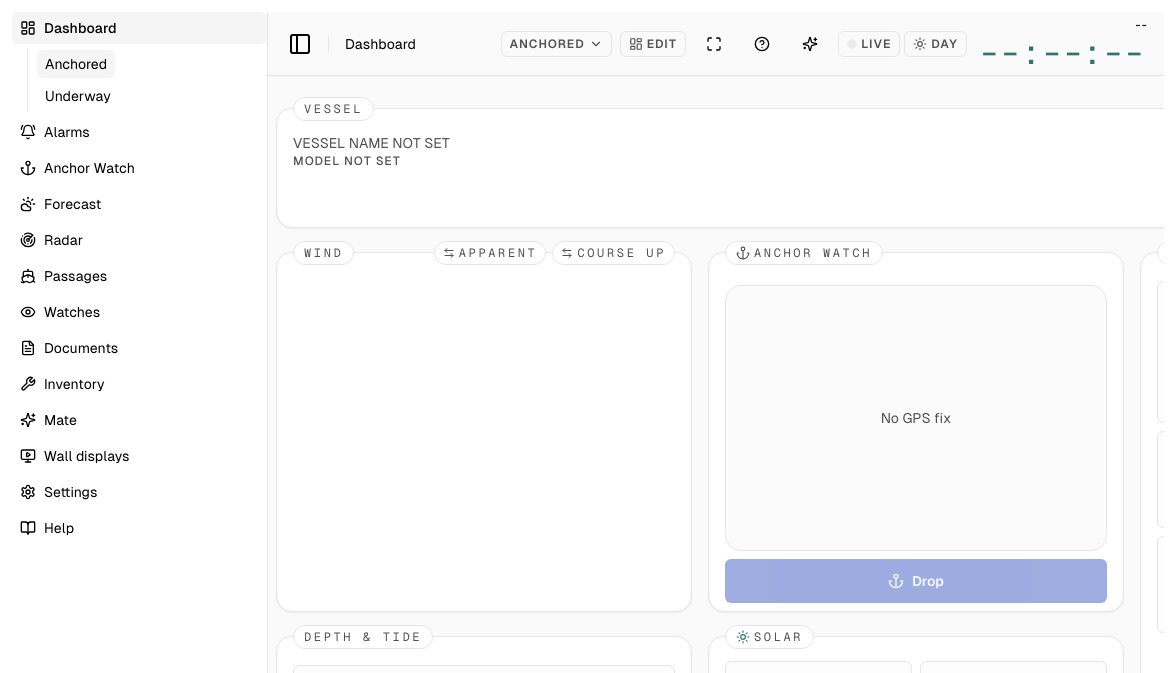
Test: App sidebar navigation › shows the dashboard by default, navigates to a panel via the sidebar, and back
Expected: the text "Depth & Tide" is shown, 304,631 -> 422,643
Expected: the button "Dashboard" is shown, 12,12 -> 267,44
Click the button "Forecast" at (140, 204), box 12,188 -> 267,220
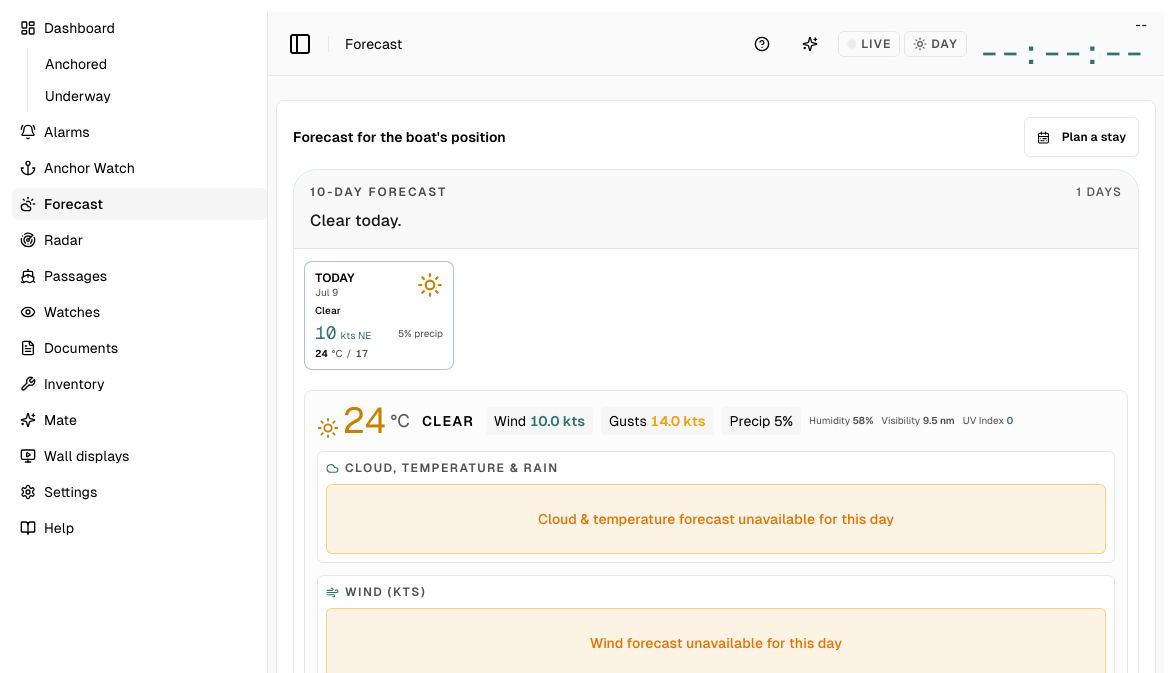
Now the button "Depth & Tide" is gone
Navigate back to the dashboard via the sidebar nav item.
Click the button "Dashboard" at (140, 28), box 12,12 -> 267,44
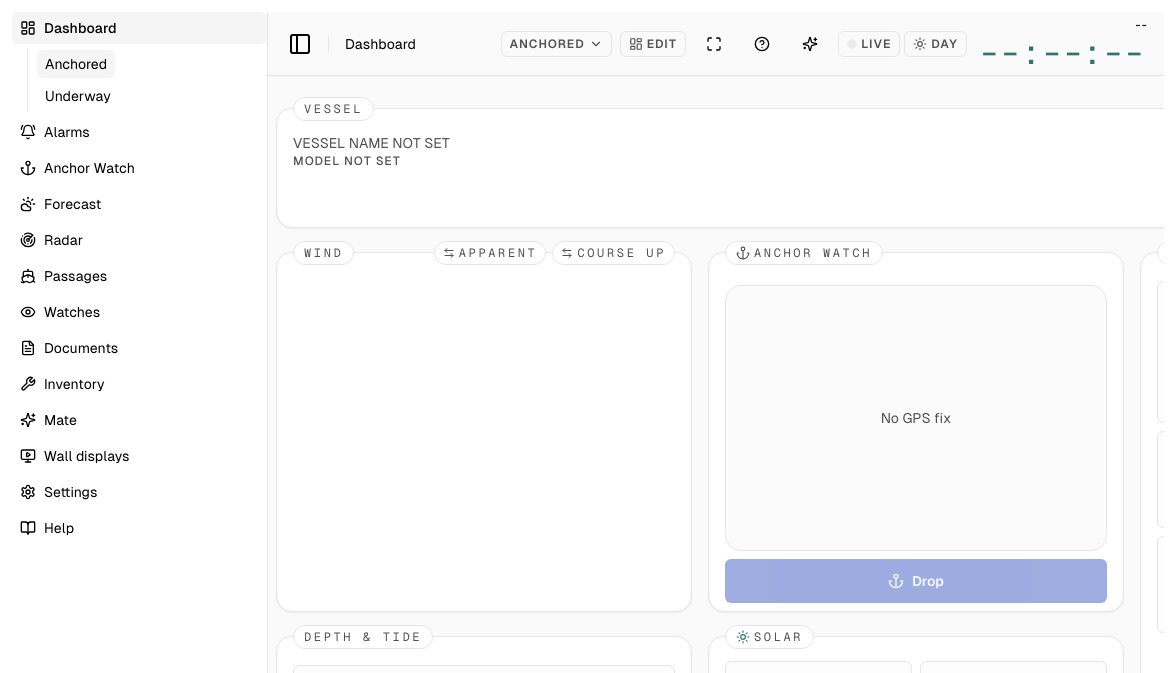
Now the text "Depth & Tide" is shown, box 304,631 -> 422,643
